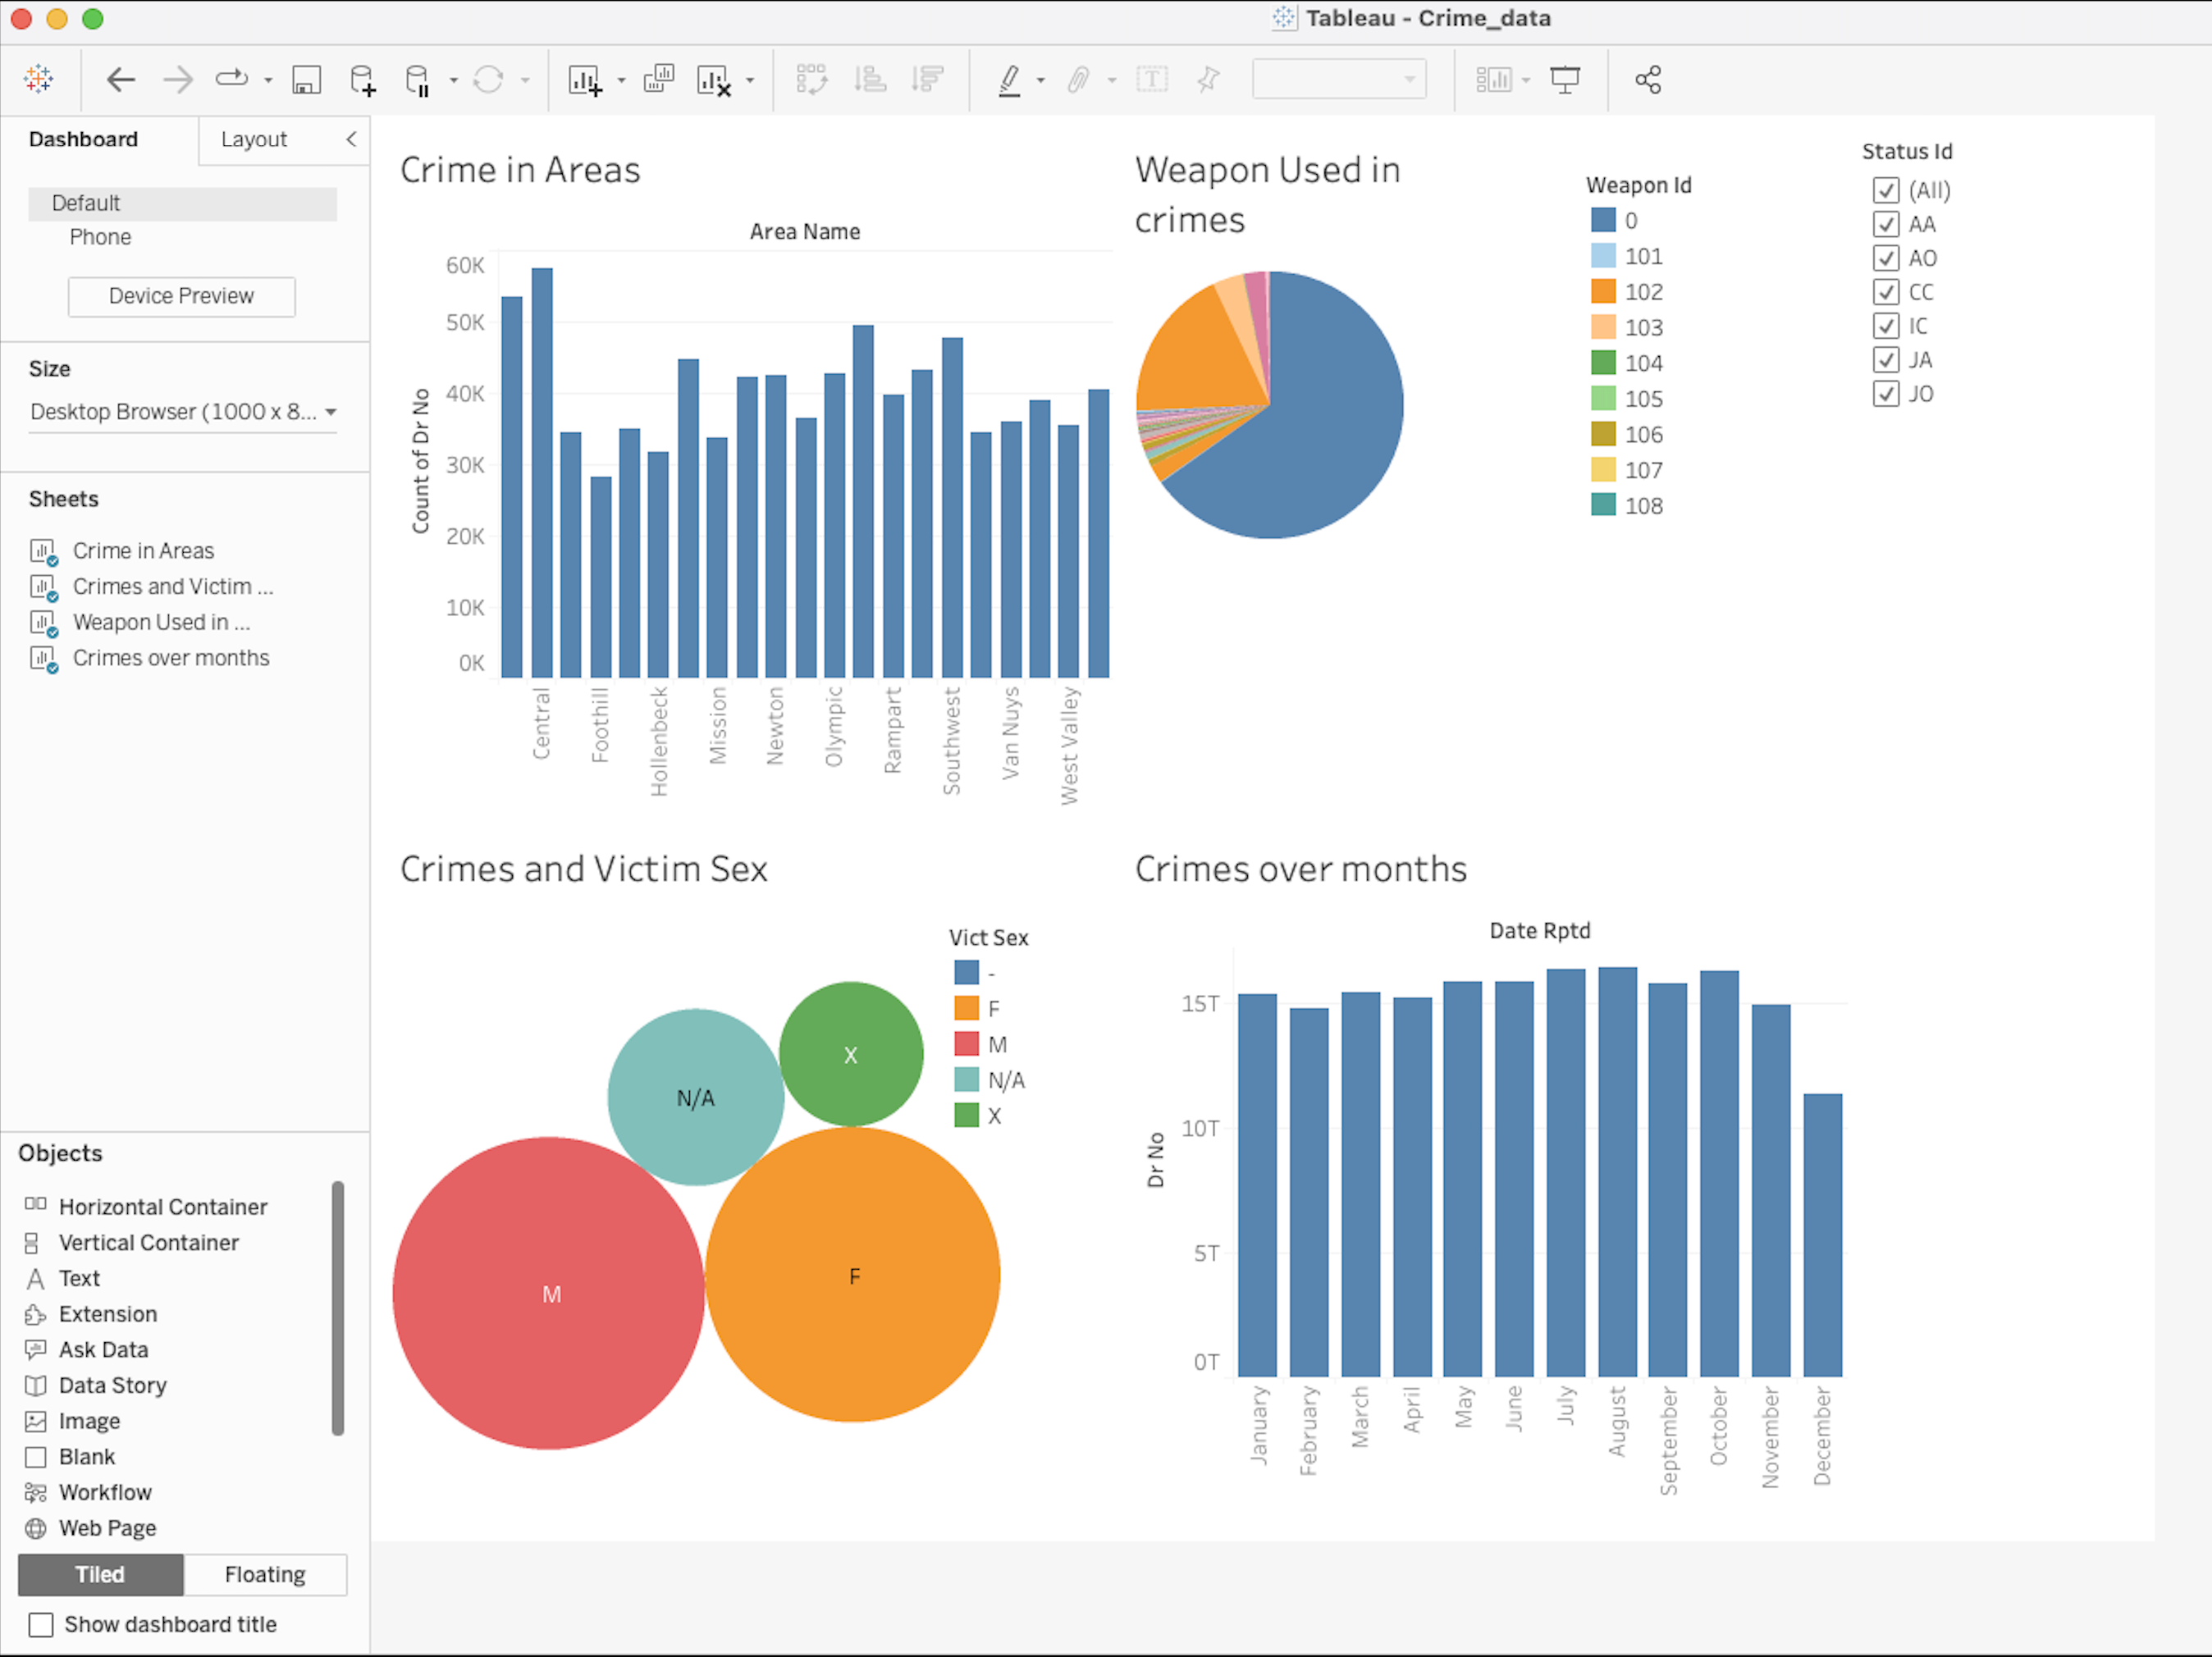

The dashboard page shown, as its layout file describes it:
{"tool":"tableau","page":{"name":"Dashboard 1","canvas":[1000,800],"ordinal":0},"visuals":[{"type":"worksheet","title":"Crime in Areas","mark":"Automatic","rows":["dr_no"],"cols":["area name"],"box":[8,8,412,392]},{"type":"worksheet","title":"Weapon Used in crimes","mark":"Pie","box":[420,8,412,392]},{"type":"legend","title":"Weapon Used in crimes","param":"[federated.03a3zf20t0auty1etdaom1g9eah6].[none:weapon_id:ok]","box":[681,31,140,194]},{"type":"worksheet","title":"Crimes vs Victim Sex","mark":"Circle","box":[8,400,412,392]},{"type":"worksheet","title":"Crimes over months","mark":"Bar","rows":["dr_no"],"cols":["date_rptd"],"box":[420,400,412,392]},{"type":"legend","title":"Crimes vs Victim Sex","param":"[federated.03a3zf20t0auty1etdaom1g9eah6].[none:vict sex:nk]","box":[324,453,140,118]}]}

Visuals, with their boxes on the page's 1000x800 design canvas (x1, y1, x2, y2). These are canvas units, not pixel positions in the 2212x1657 screenshot, which may show the page scaled, cropped or inside an application window:
"Crime in Areas" worksheet: left=8, top=8, right=420, bottom=400
"Weapon Used in crimes" worksheet (Pie marks): left=420, top=8, right=832, bottom=400
"Weapon Used in crimes" legend: left=681, top=31, right=821, bottom=225
"Crimes vs Victim Sex" worksheet (Circle marks): left=8, top=400, right=420, bottom=792
"Crimes over months" worksheet (Bar marks): left=420, top=400, right=832, bottom=792
"Crimes vs Victim Sex" legend: left=324, top=453, right=464, bottom=571
